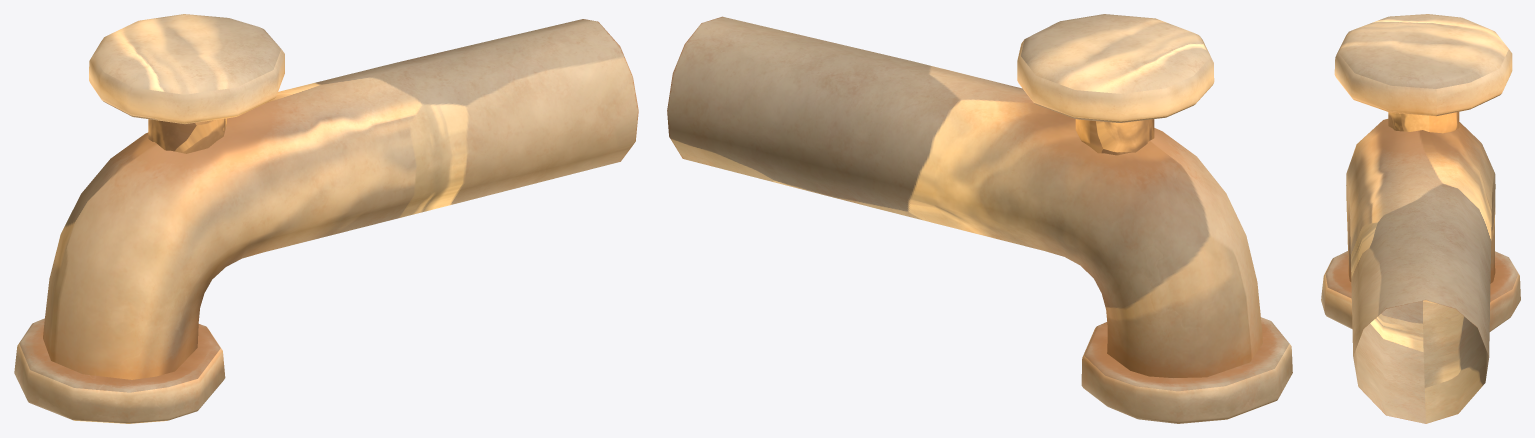
File: SM_Tap.fbx
3 renders of one model, left to right at view 1: azimuth 30°, elevation 25°; view 2: azimuth 150°, elevation 25°; view 3: azimuth 270°, elevation 25°, orthographic. The views are drawn at different scales.
Visible parts, largest first — view 1: SM_Tap_LOD0; view 2: SM_Tap_LOD0; view 3: SM_Tap_LOD0.
Part boxes in pixels (x1,y1,x2,y2): SM_Tap_LOD0: (14,14,638,423); SM_Tap_LOD0: (667,14,1292,423); SM_Tap_LOD0: (1321,14,1520,423).
Size of the model in its own units: 29.97 by 9.78 by 15.9.
